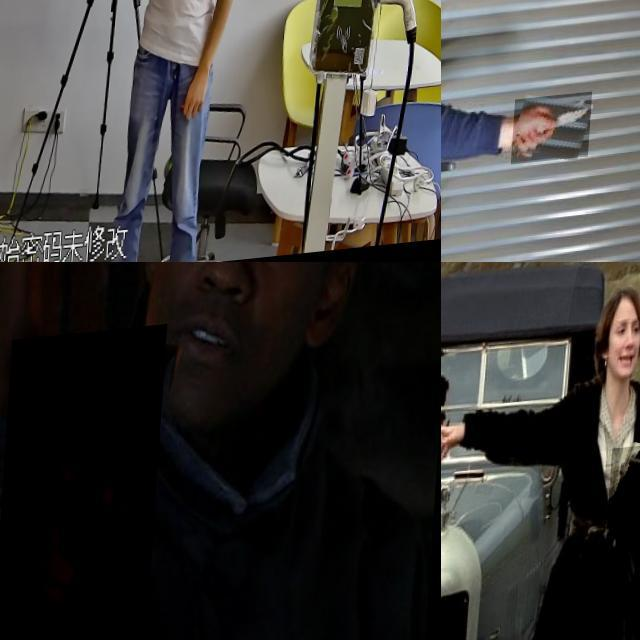-: (516, 100, 596, 170)
gun-knife-thesis - v11 Yolov5 augmented: (0, 331, 171, 640), (611, 448, 640, 562), (73, 0, 121, 51)
